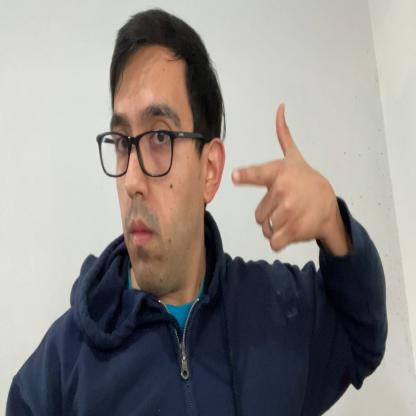G: (231, 101, 321, 252)
